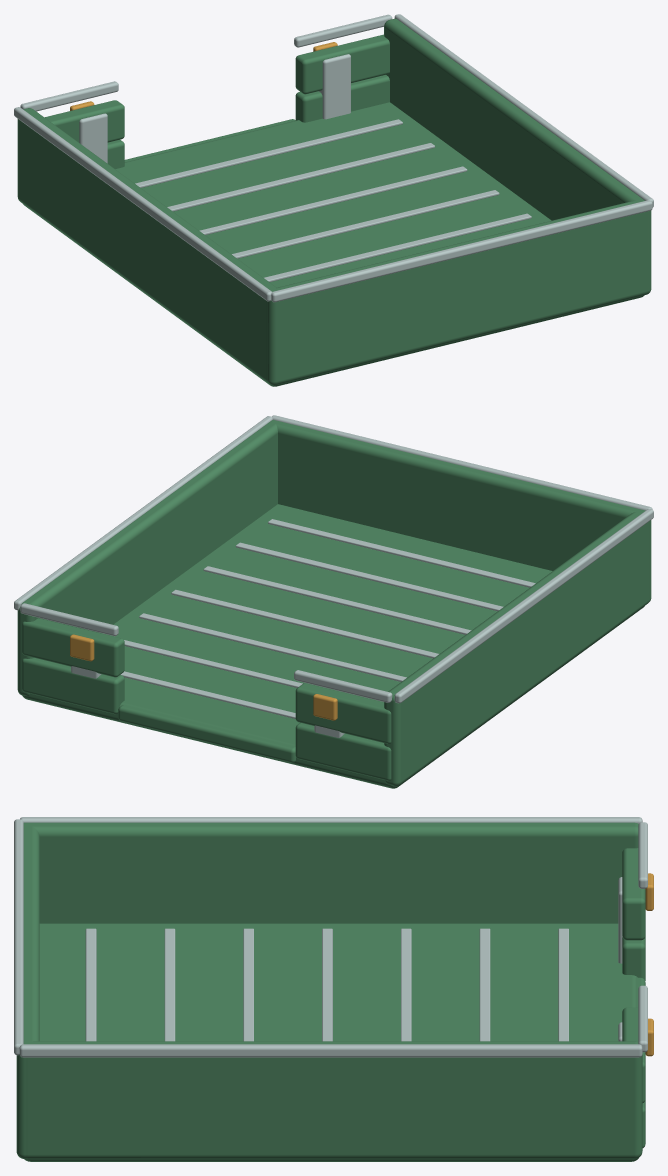
The model's file is chassis-metal-toolbox.glb.
3 renders of one model, top to bottom at view 1: azimuth 30°, elevation 25°; view 2: azimuth 150°, elevation 25°; view 3: azimuth 270°, elevation 25°, orthographic. The views are drawn at different scales.
Visible parts, largest first — view 1: green, steel; view 2: green, steel, brass; view 3: green, steel, brass.
Boxes of the visible parts, <box> form: green: <box>17,18,651,386</box>; steel: <box>14,14,653,302</box>; green: <box>17,420,651,788</box>; steel: <box>14,415,653,737</box>; brass: <box>70,634,337,720</box>; green: <box>16,822,645,1161</box>; steel: <box>14,817,647,1057</box>; brass: <box>645,873,653,1056</box>.
Bounding box in the file's own units: 1.53 × 0.372 × 1.79.
